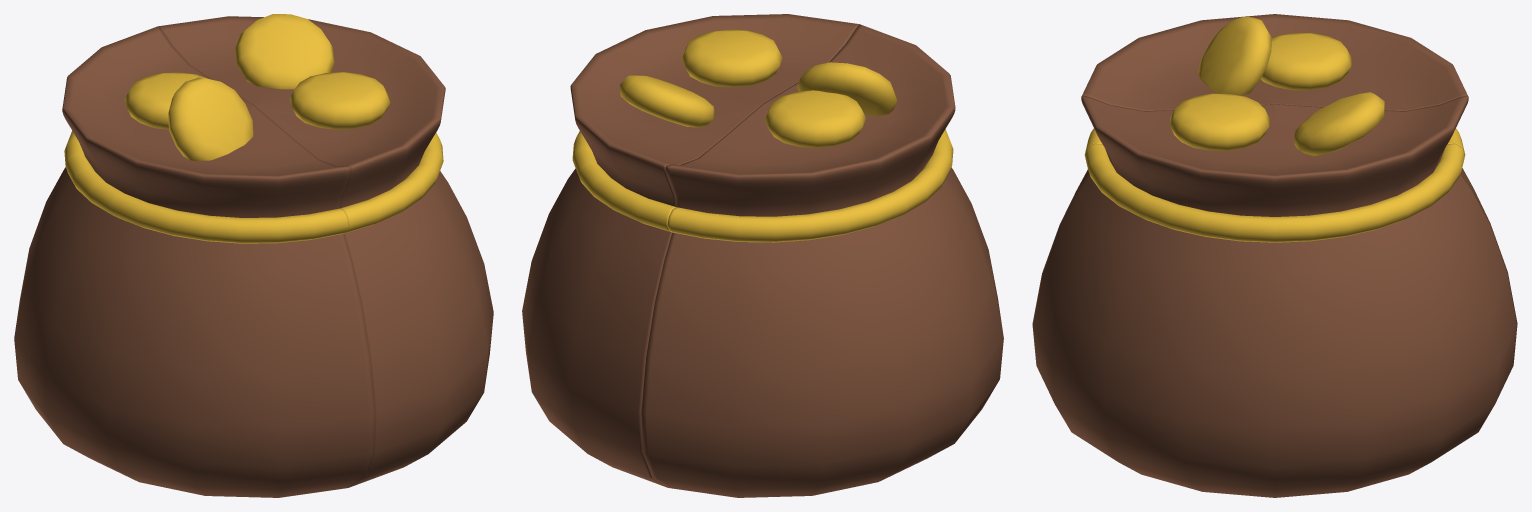
The model's file is SM_GoldBag_01a.fbx.
3 views of the same model, side by side, from view 1: azimuth 30°, elevation 25°; view 2: azimuth 150°, elevation 25°; view 3: azimuth 270°, elevation 25° (orthographic).
Visible parts, largest first — view 1: GoldBag_02, GoldBag_01; view 2: GoldBag_02, GoldBag_01; view 3: GoldBag_01, GoldBag_02.
Part boxes in pixels (x1,y1,x2,y2): GoldBag_02: [14, 26, 374, 497]; GoldBag_01: [158, 14, 493, 487]; GoldBag_02: [641, 24, 1003, 497]; GoldBag_01: [522, 14, 859, 487]; GoldBag_01: [1032, 92, 1517, 497]; GoldBag_02: [1061, 14, 1488, 221].
Size of the model in its own units: 35.51 by 30.74 by 35.51.
